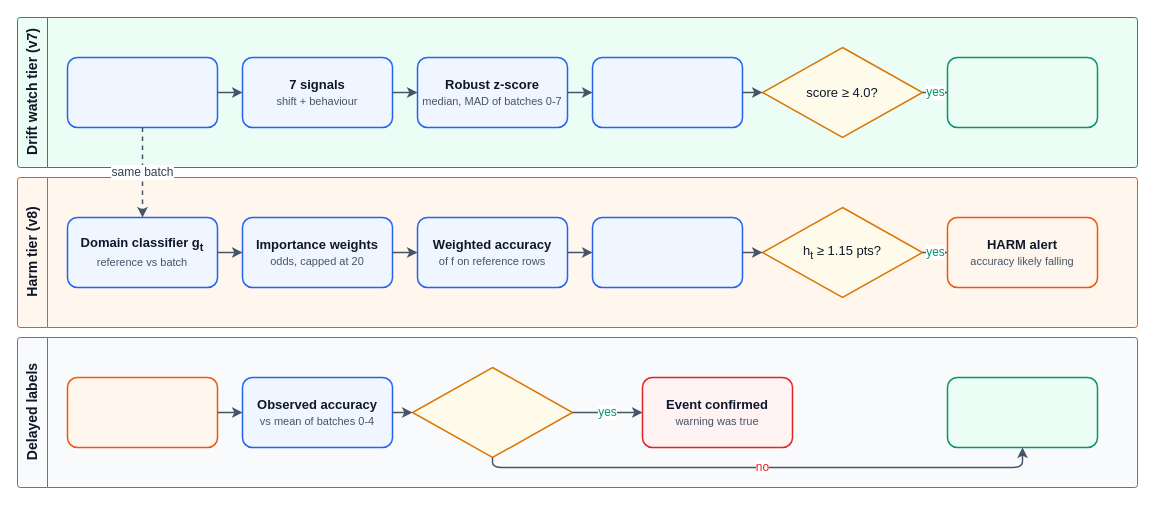
Image size: 1155x505. Some labels were removed from this diagram. Each missing label, with the centre of its shape:
"2 batches ≥ 5 pts low?" belongs at (492,412).
"Alert cleared harmless or no shift" belongs at (1022,412).
"Batch B t frozen f predicts" belongs at (142,92).
"Harm score h t burn-in median - estimate" belongs at (667,252).
"Labels of B t-L arrive after delay L" belongs at (142,412).
"Max over signals watch score" belongs at (667,92).
"WATCH alert drift under way" belongs at (1022,92).
